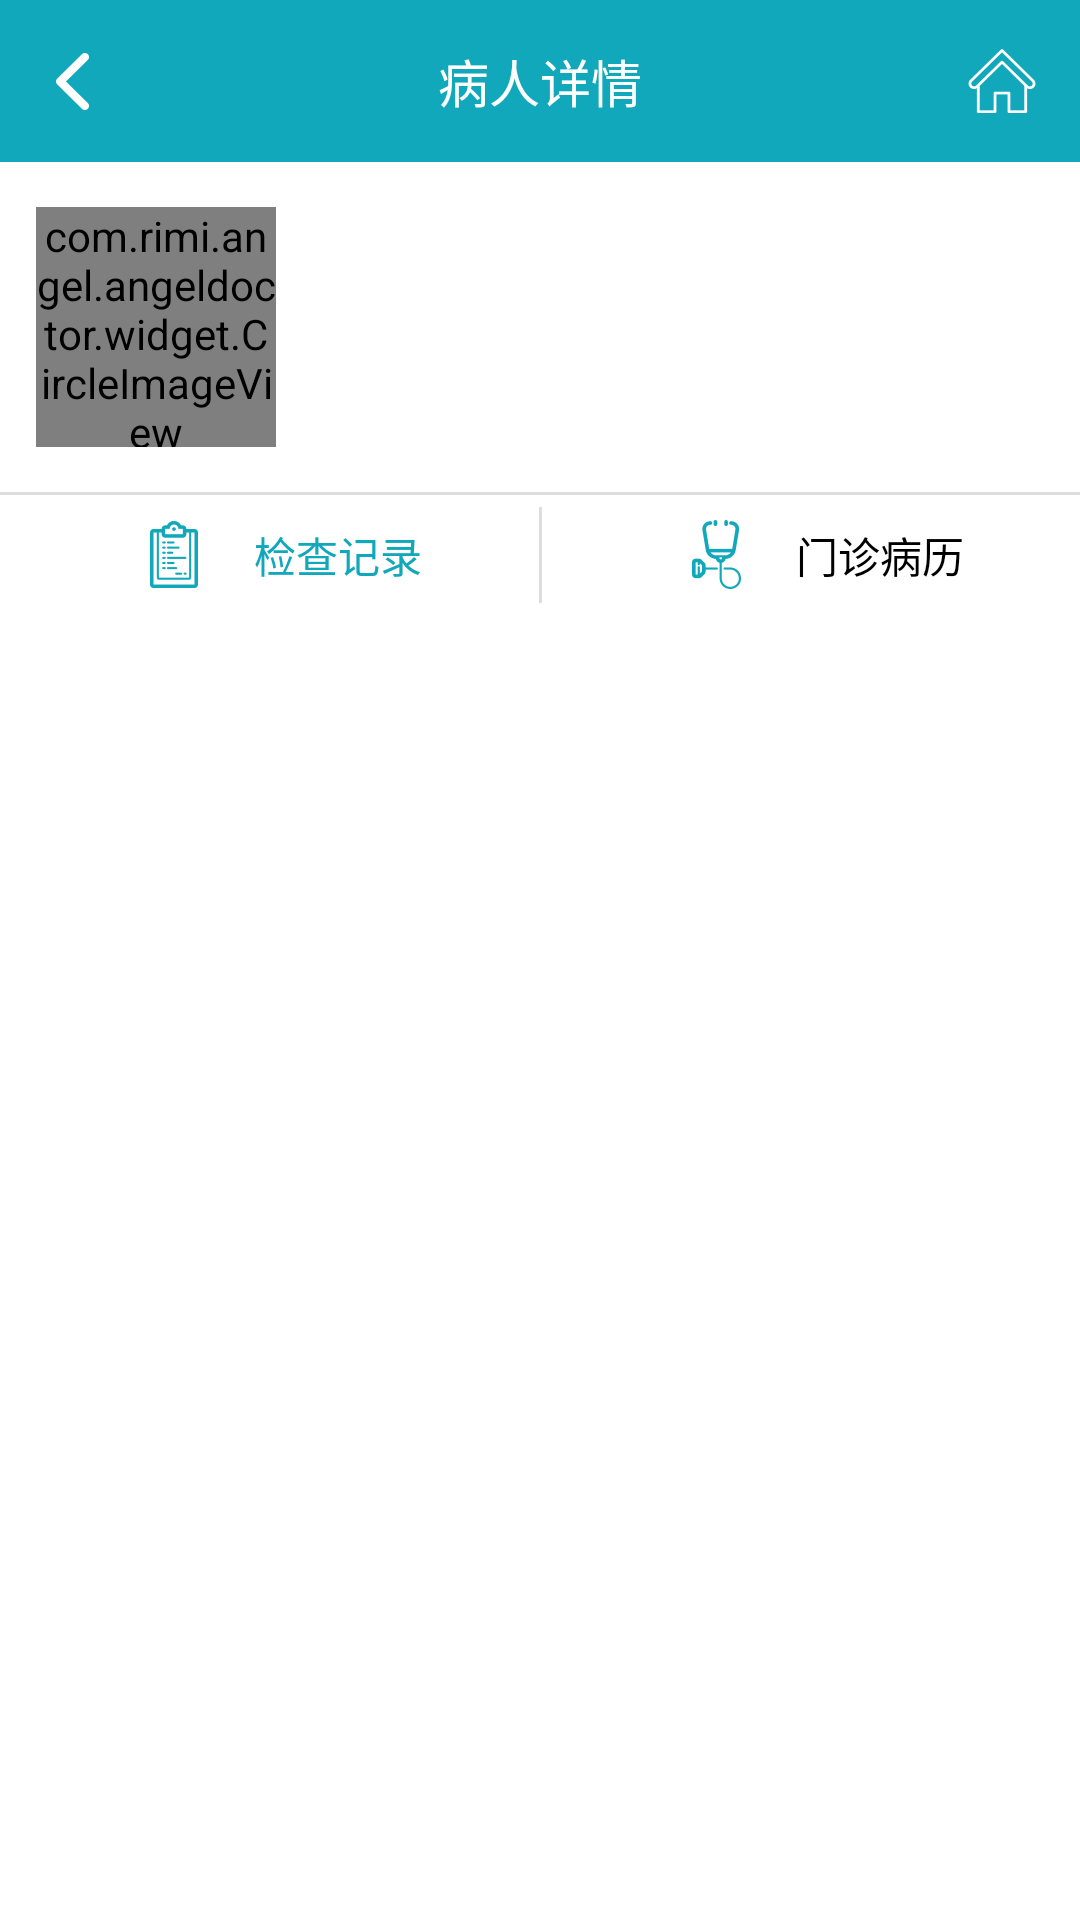

Icons on this 1080x1920 Android screen, each with its box as [left=x1, top=y1, right=x2, bottom=y2]:
back: [left=56, top=53, right=89, bottom=110]
home: [left=968, top=49, right=1036, bottom=113]
